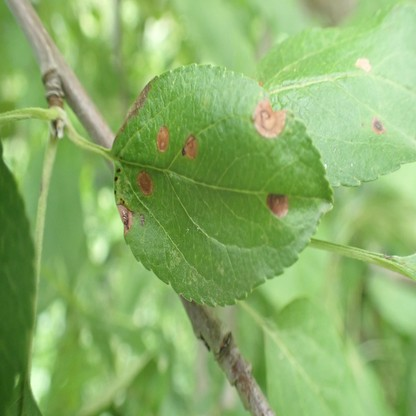frogeye_leaf_spot: (253, 101, 287, 137), (266, 195, 289, 216), (117, 203, 133, 233), (137, 171, 153, 196), (185, 135, 198, 159), (157, 126, 169, 150), (355, 57, 372, 73), (371, 118, 385, 134), (258, 81, 263, 87)
